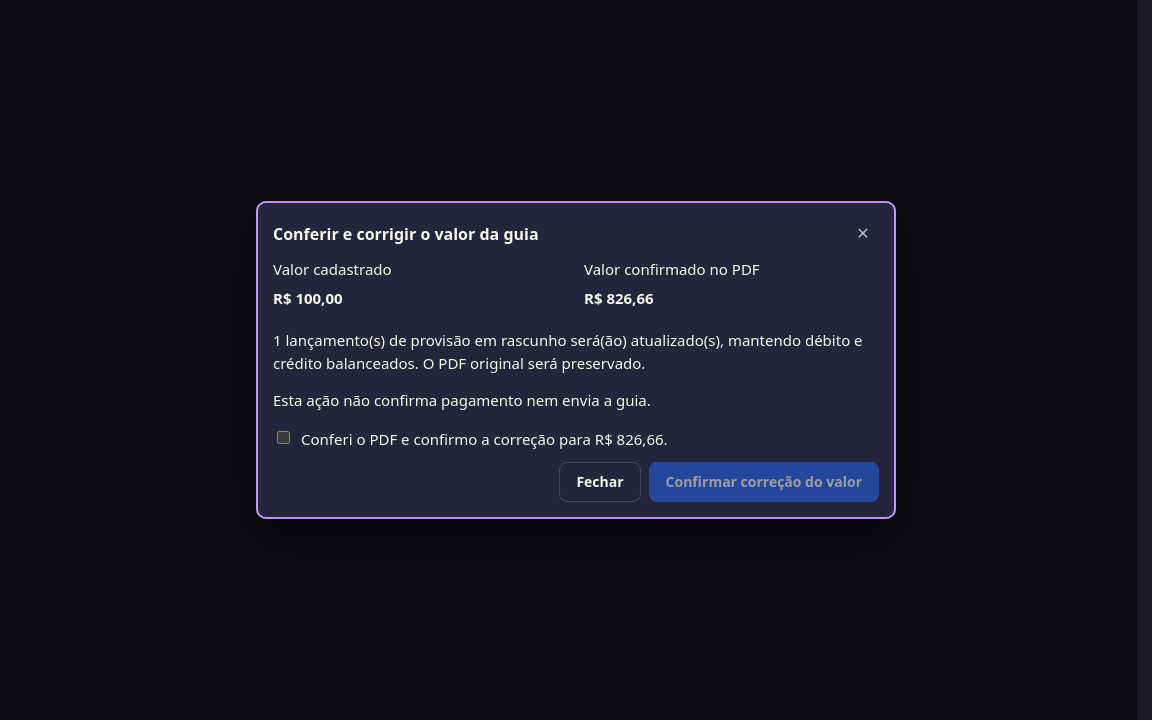
Scenario: mudança concorrente invalida prévia e impede repetir POST antigo
Click the checkbox at (284, 437), box 277,430 -> 290,444
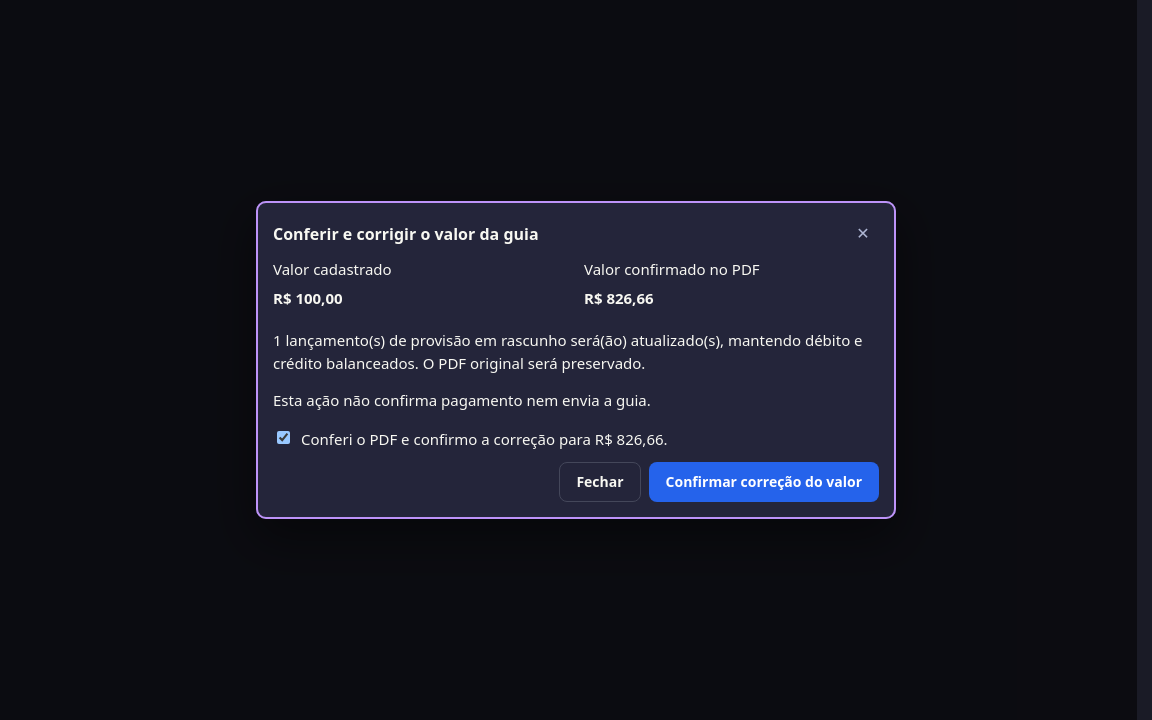
Click the button "Confirmar correção do valor" at (764, 482), box 649,462 -> 879,502
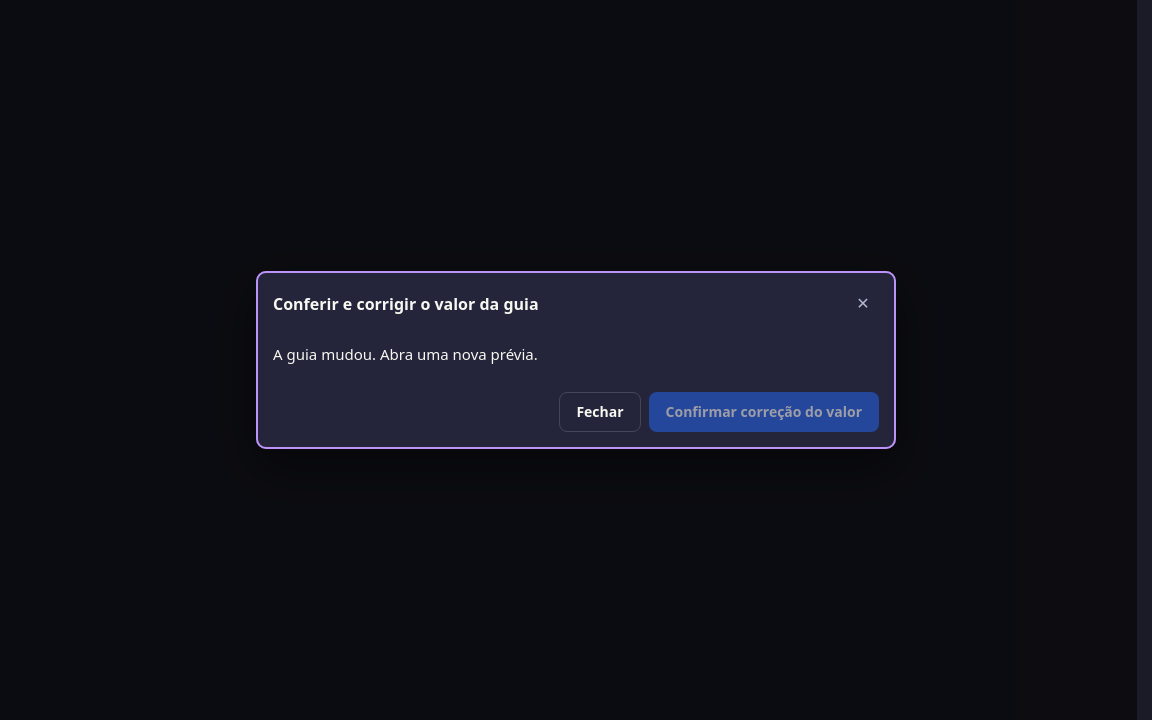
Expected: the message "A guia mudou. Abra uma nova prévia." is shown, 273,344 -> 538,364
Expected: the button "Confirmar correção do valor" is disabled, 649,392 -> 879,432
